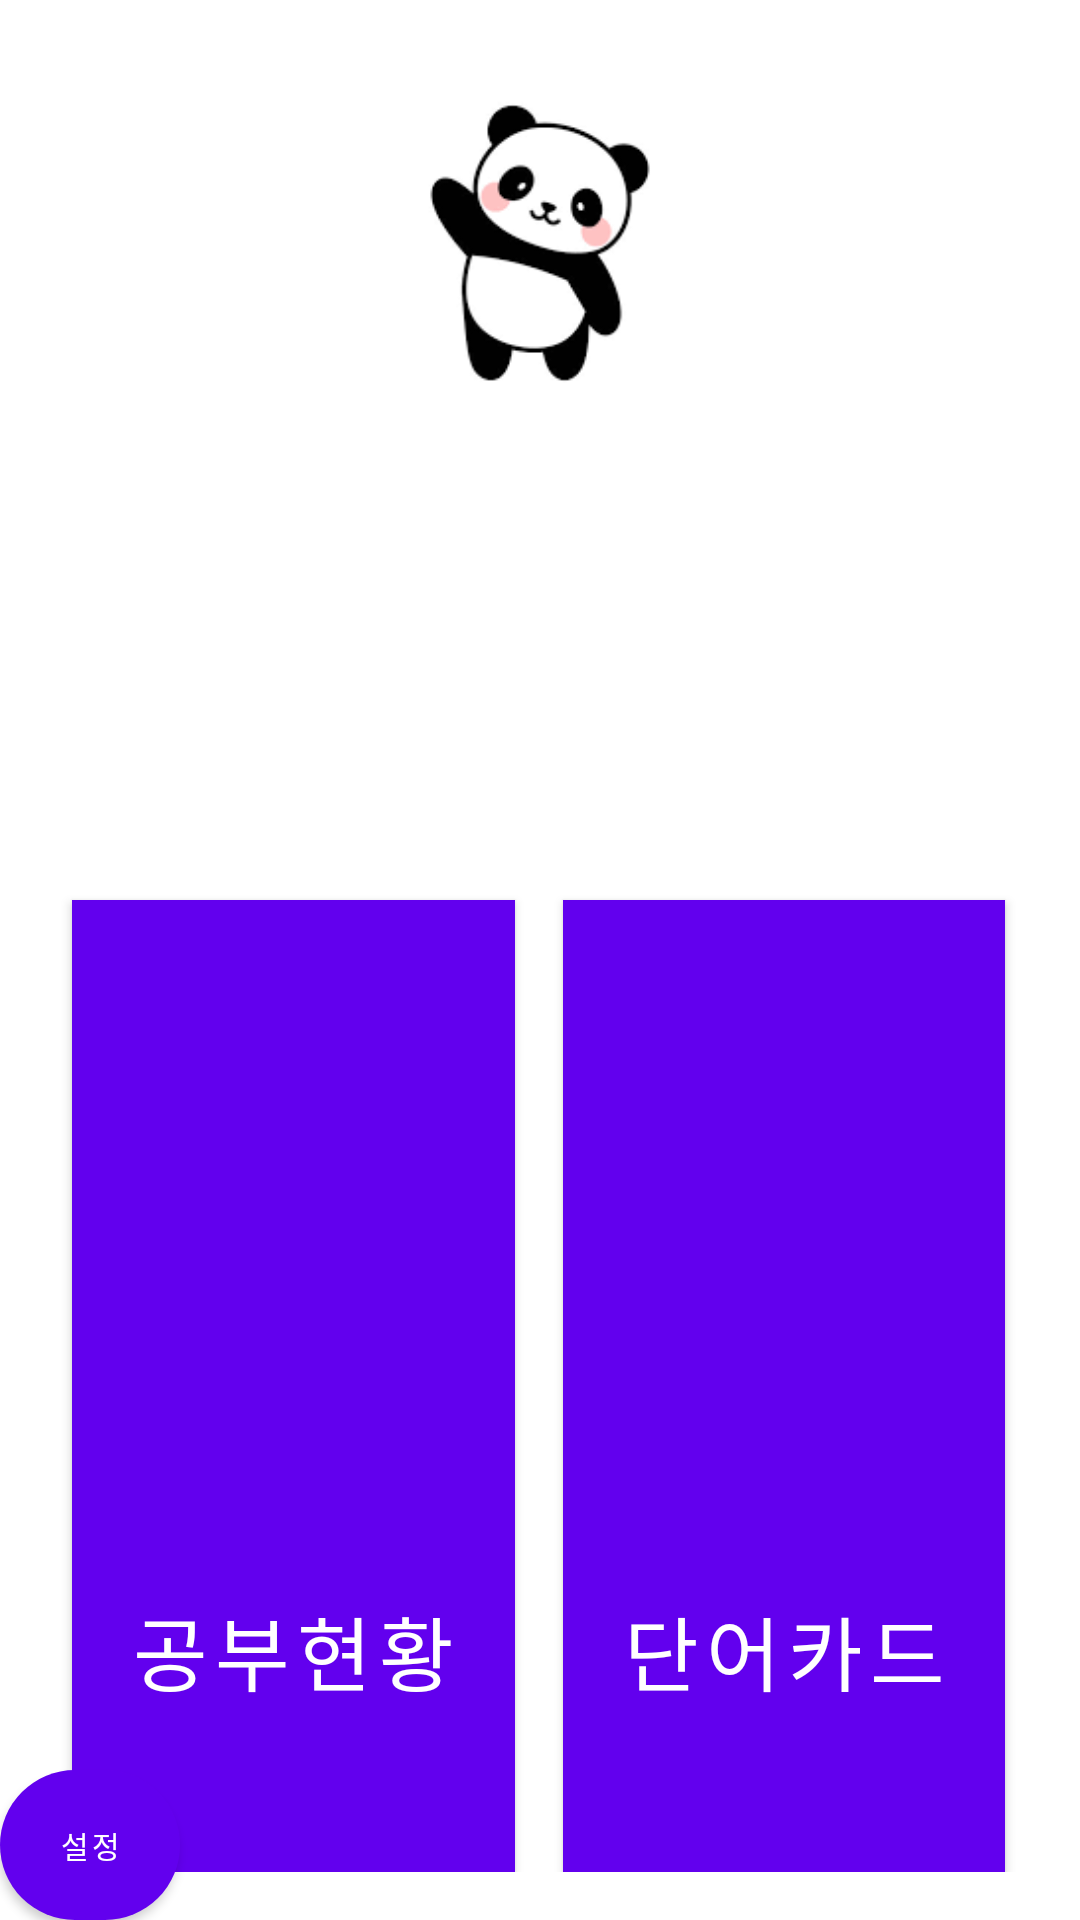

Screen size 1080px×1920px. Icon name, then its center in pixels as (x=x, y=y):
panda: (x=540, y=243)
